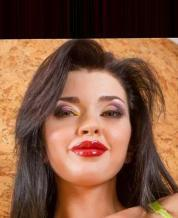face: (58, 94, 126, 159)
